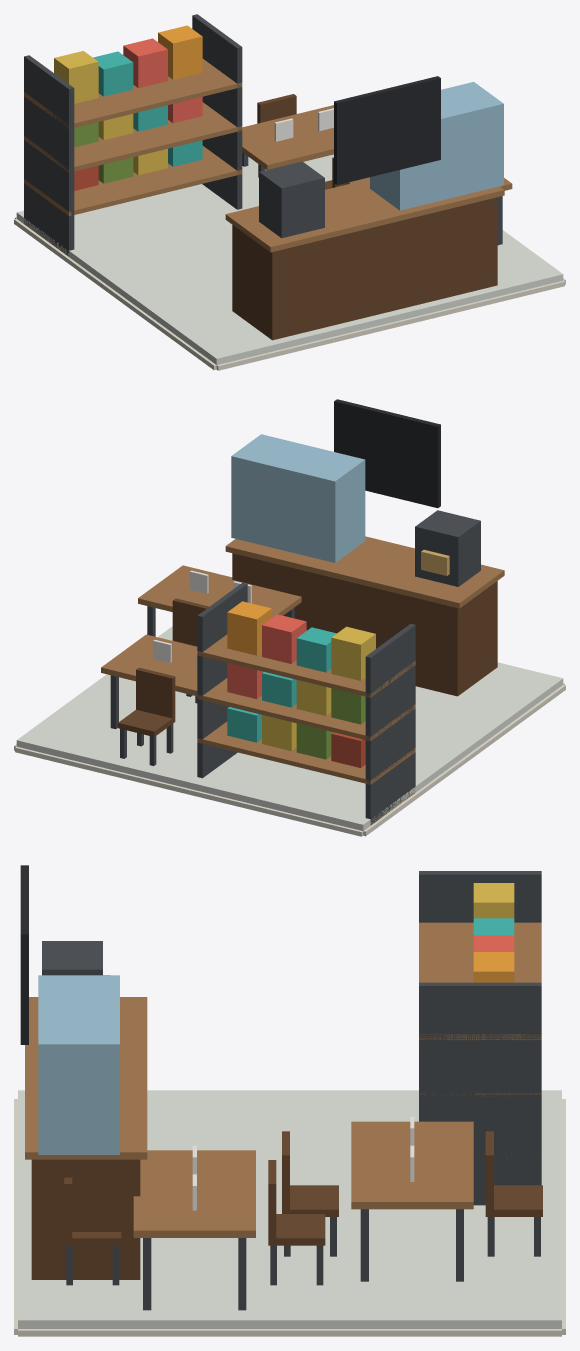
Rendered from interior.cafe.glb.
The picture shows the model from 3 angles, top to bottom: view 1: azimuth 30°, elevation 25°; view 2: azimuth 150°, elevation 25°; view 3: azimuth 270°, elevation 25°; orthographic projection. The views are drawn at different scales.
Parts seen in each view (by area): view 1: interior.cafe; view 2: interior.cafe; view 3: interior.cafe.
Part boxes in pixels (left/top/right/bottom): interior.cafe: left=14, top=14, right=565, bottom=370; interior.cafe: left=14, top=399, right=565, bottom=836; interior.cafe: left=14, top=865, right=565, bottom=1336.
Bounding box in the file's own units: 4.06 × 2.6 × 4.06.
